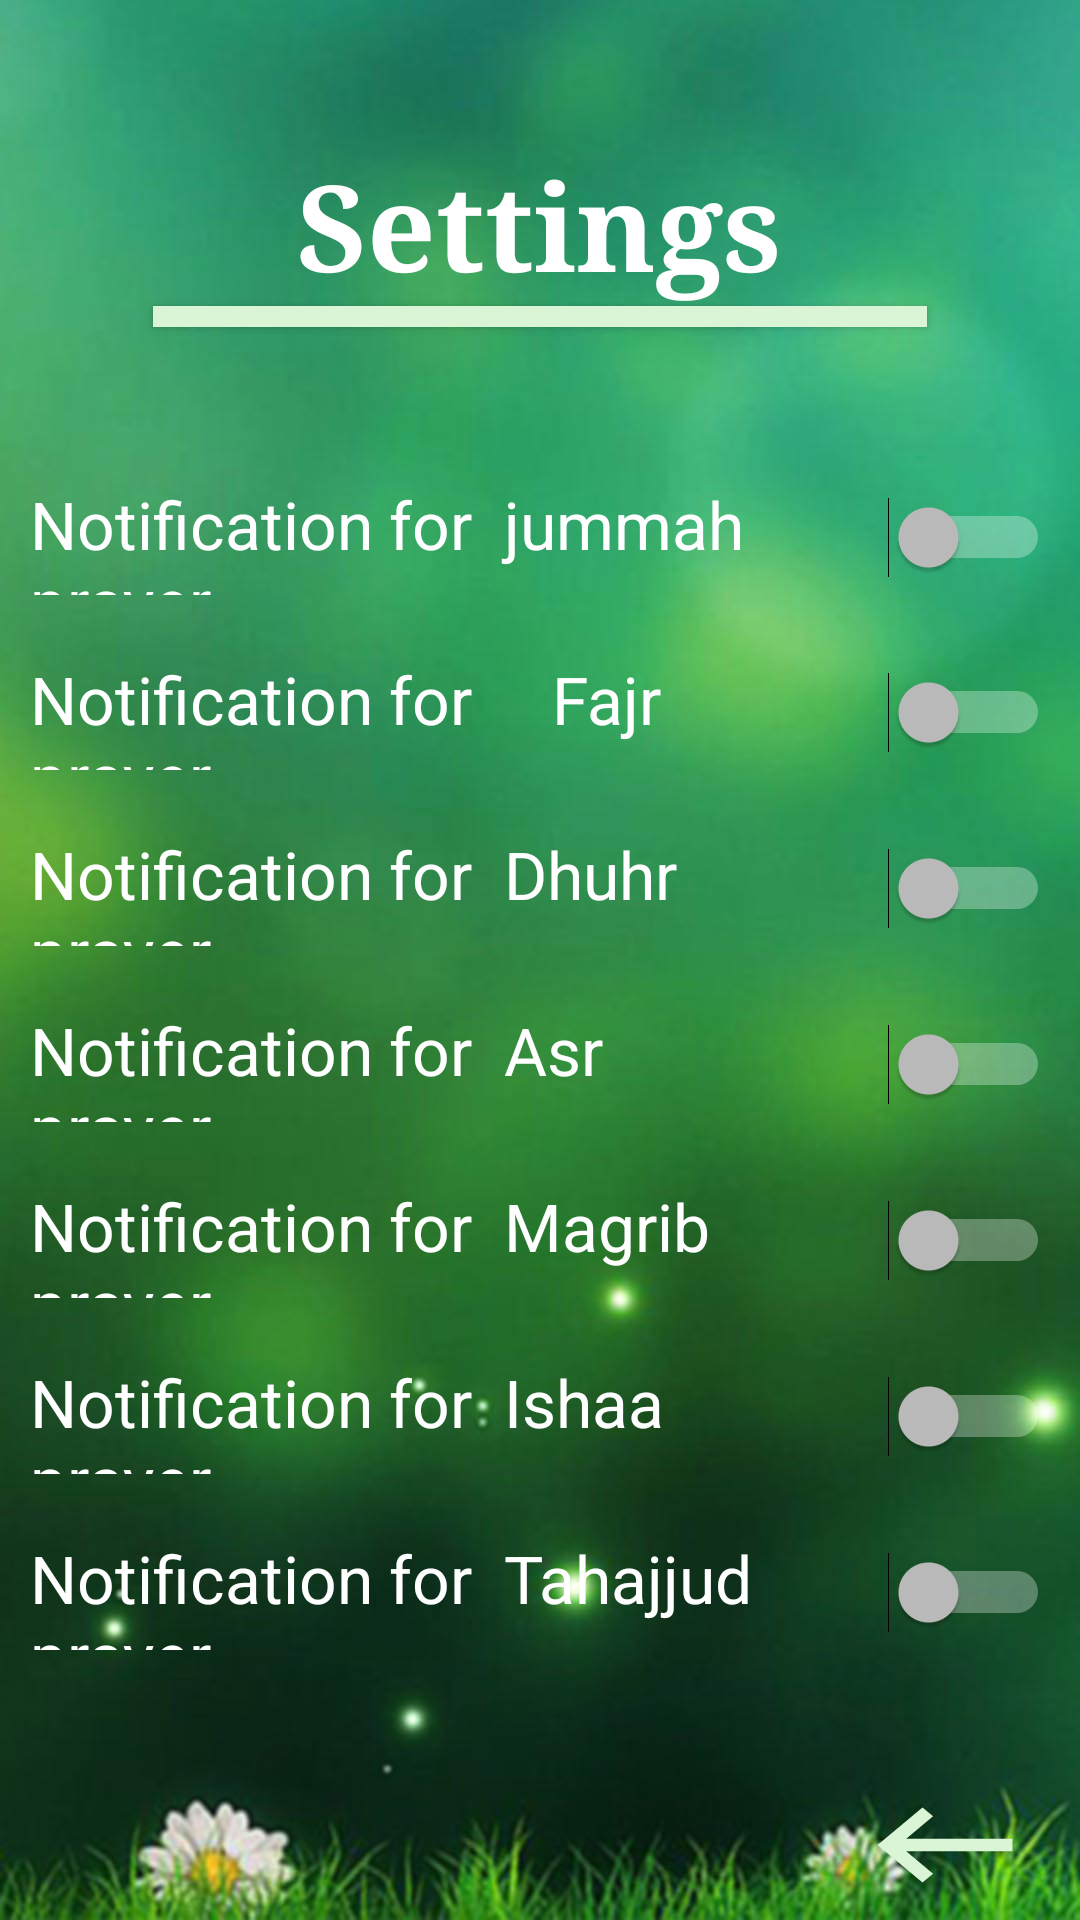

Point at icon controls on the screen. Image size 1080 x 1920, points as (x,y).
keyboard backspace: (945,1845)
